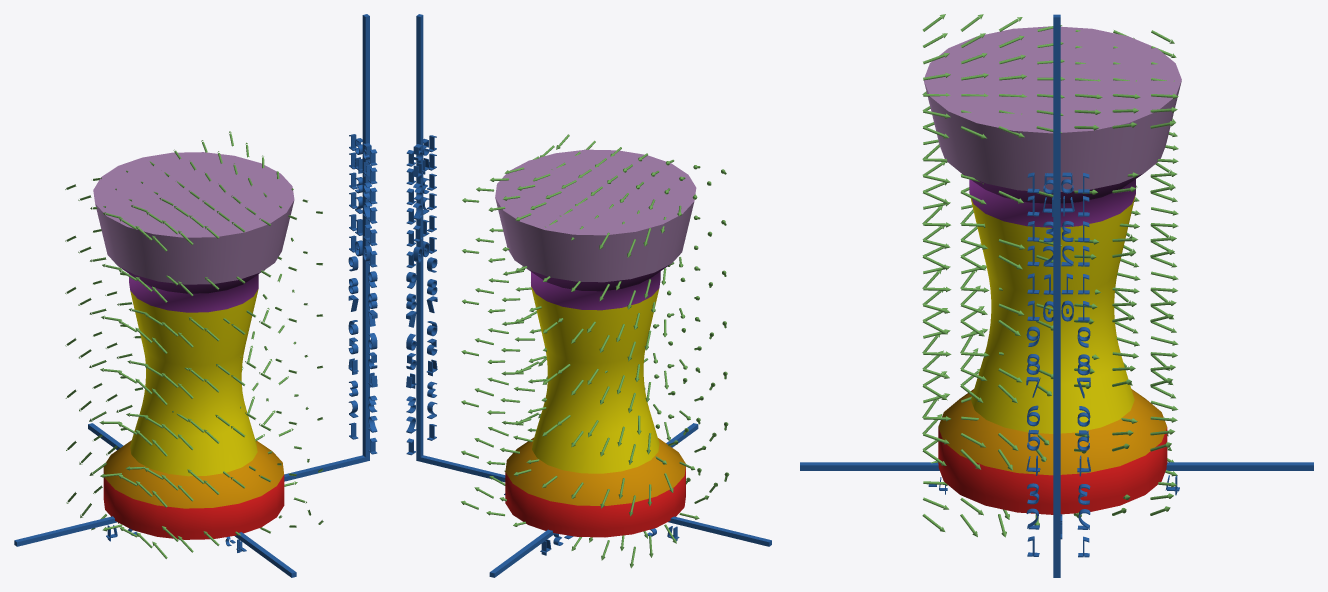
File: todo2.0.glb
3 views of the same model, side by side, from view 1: azimuth 30°, elevation 25°; view 2: azimuth 150°, elevation 25°; view 3: azimuth 270°, elevation 25° (orthographic). The views are drawn at different scales.
Parts seen in each view (by area): view 1: pasted__pasted__pCylinder1, campo_vectorial_flechas:campo_vectorial, pasted__pCube1_node, pCube1, pasted__pCube1; view 2: pasted__pasted__pCylinder1, campo_vectorial_flechas:campo_vectorial, pasted__pCube1_node, pCube1, pasted__pCube1; view 3: pasted__pasted__pCylinder1, campo_vectorial_flechas:campo_vectorial, pasted__pCube1_node, pasted__pCube1.
Boxes of the visible parts, bbox=[...] form: pasted__pasted__pCylinder1: bbox=[93, 152, 294, 539]; campo_vectorial_flechas:campo_vectorial: bbox=[65, 131, 323, 558]; pasted__pCube1_node: bbox=[362, 14, 369, 457]; pCube1: bbox=[14, 455, 369, 546]; pasted__pCube1: bbox=[88, 423, 296, 577]; pasted__pasted__pCylinder1: bbox=[495, 149, 696, 537]; campo_vectorial_flechas:campo_vectorial: bbox=[461, 134, 729, 568]; pasted__pCube1_node: bbox=[416, 14, 423, 460]; pCube1: bbox=[416, 455, 771, 546]; pasted__pCube1: bbox=[489, 423, 698, 577]; pasted__pasted__pCylinder1: bbox=[924, 26, 1181, 514]; campo_vectorial_flechas:campo_vectorial: bbox=[922, 14, 1178, 537]; pasted__pCube1_node: bbox=[1053, 14, 1060, 572]; pasted__pCube1: bbox=[800, 462, 1313, 470].
Size of the model in its own units: 18.03 by 22.61 by 18.03.
